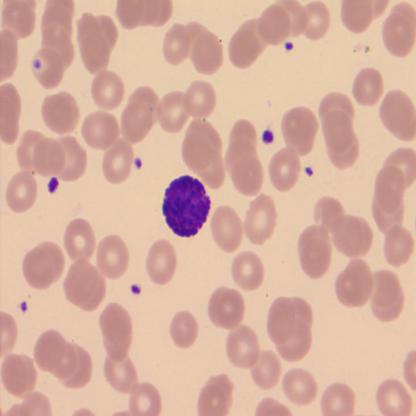Basophil: (160, 174, 212, 238)
